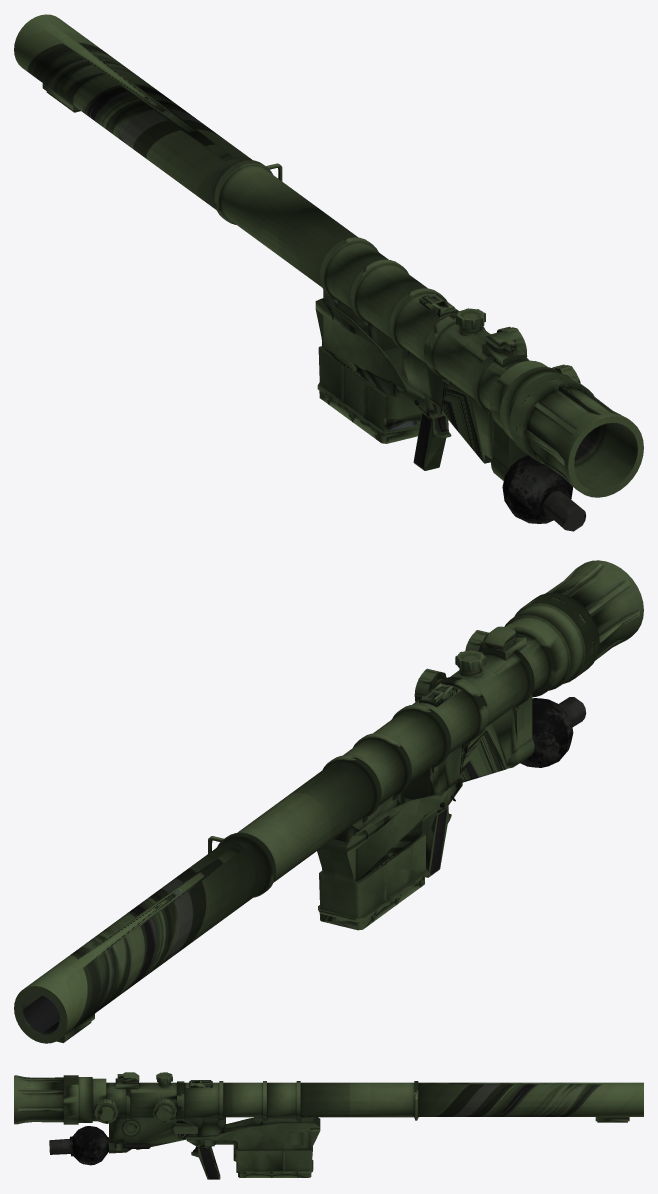
File: mp_verba.glb
The picture shows the model from 3 angles, top to bottom: view 1: azimuth 30°, elevation 25°; view 2: azimuth 150°, elevation 25°; view 3: azimuth 270°, elevation 25°; orthographic projection. The views are drawn at different scales.
Visible parts, largest first — view 1: body|PZRC, body|trigger, body|battery; view 2: body|PZRC, body|trigger, body|battery; view 3: body|PZRC, body|trigger, body|battery.
Part boxes in pixels (x1=…): body|PZRC: x1=14, y1=14, x2=643, y2=497; body|trigger: x1=315, y1=298, x2=451, y2=470; body|battery: x1=502, y1=455, x2=585, y2=531; body|PZRC: x1=14, y1=560, x2=643, y2=1043; body|trigger: x1=317, y1=778, x2=462, y2=930; body|battery: x1=520, y1=697, x2=586, y2=767; body|PZRC: x1=14, y1=1072, x2=643, y2=1153; body|trigger: x1=186, y1=1117, x2=320, y2=1179; body|battery: x1=49, y1=1126, x2=108, y2=1165.
Bounding box in the file's own units: 0.1493 × 0.2947 × 1.63.
8 materials, 8 textured.
